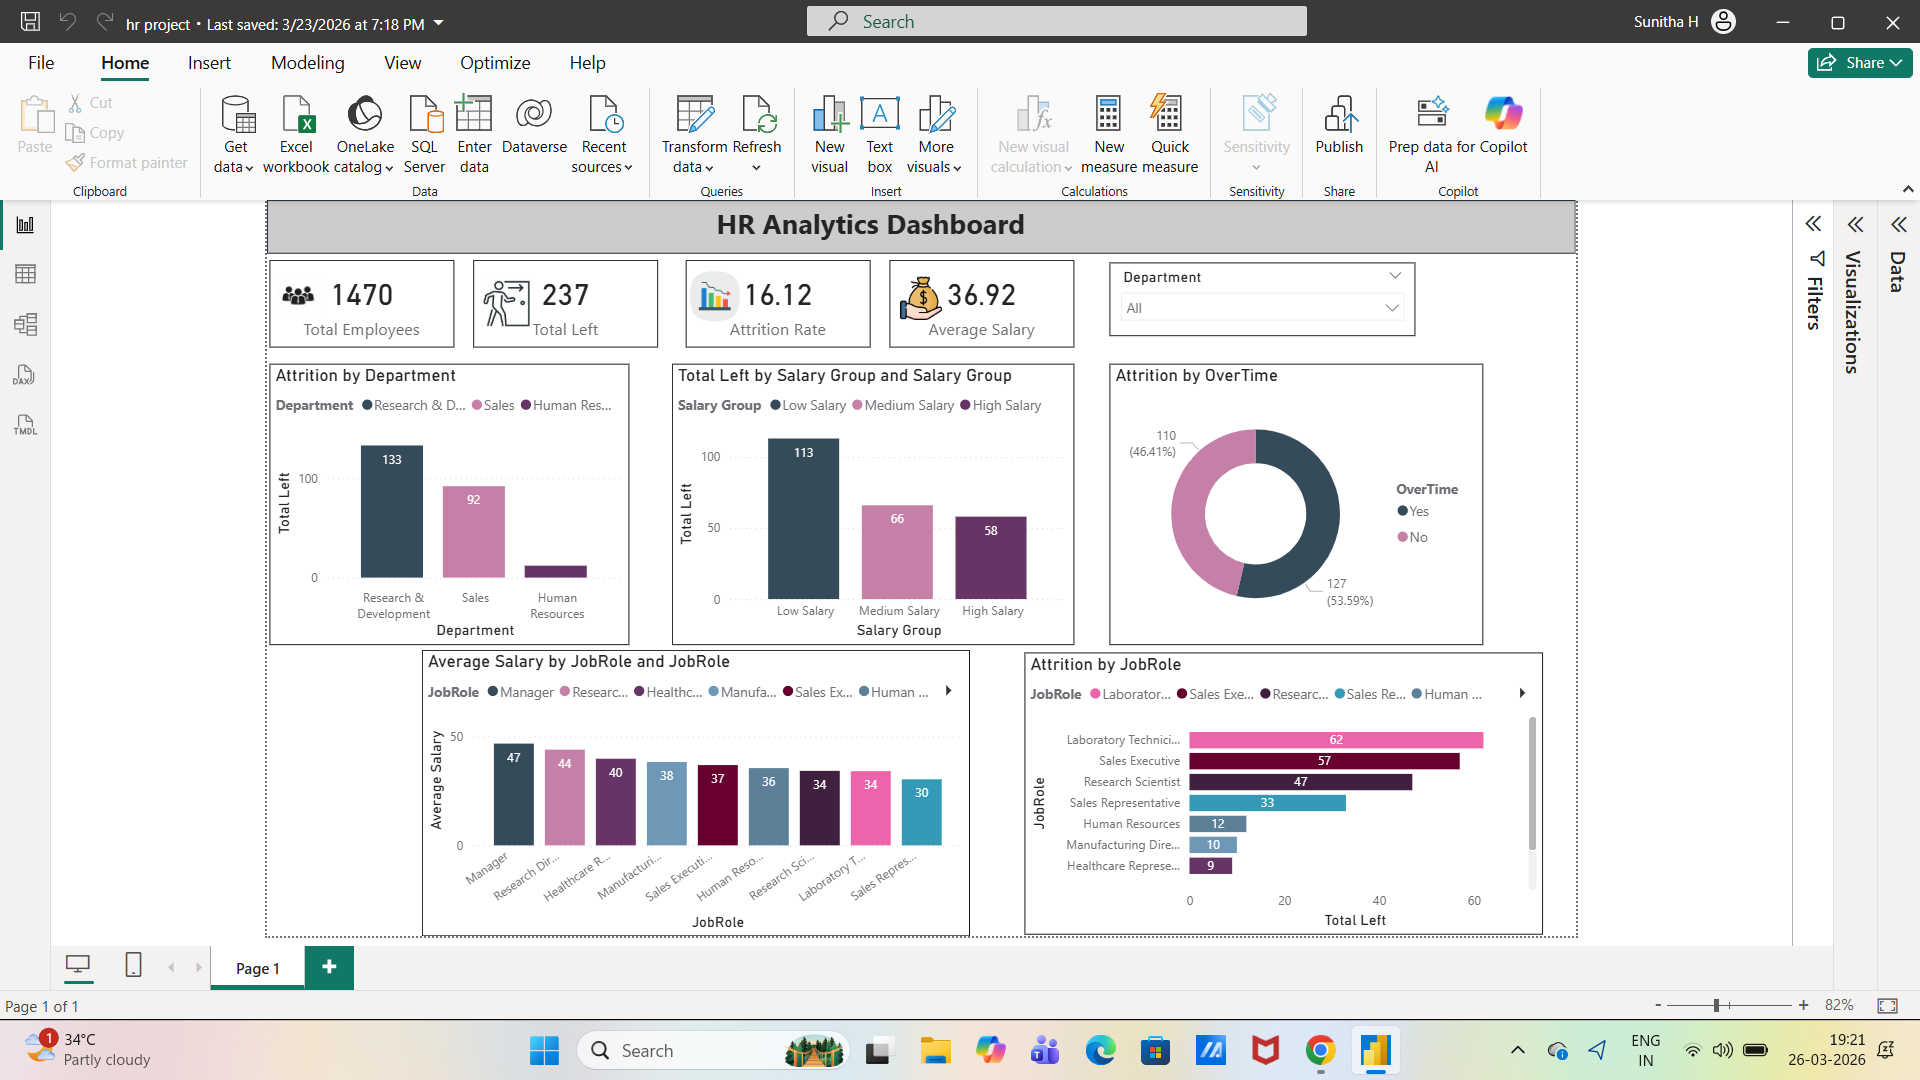

The page's visual inventory and layout, read from the dashboard file:
{"tool":"powerbi","page":{"name":"Page 1","canvas":[1280,720],"ordinal":0},"visuals":[{"type":"card","fields":{"Values":["hr_data.Total Employees"]},"box":[2.4,58.7,181,85.6],"z":0},{"type":"card","fields":{"Values":["hr_data.Total Left"]},"box":[201.8,58.7,181,85.6],"z":1000},{"type":"card","fields":{"Values":["hr_data.Attrition Rate"]},"box":[409.6,58.7,181,85.6],"z":2000},{"type":"card","fields":{"Values":["hr_data.Average Salary"]},"box":[609,58.7,181,85.6],"z":3000},{"type":"columnChart","title":"Attrition by Department","fields":{"Category":["hr_data.Department"],"Y":["hr_data.Total Left"],"Series":["hr_data.Department"]},"box":[2.4,160.2,352.2,275.1],"z":4000},{"type":"barChart","title":"Attrition by JobRole","fields":{"Category":["hr_data.JobRole"],"Y":["hr_data.Total Left"],"Series":["hr_data.JobRole"]},"box":[741,442.7,507.5,276.4],"z":5000},{"type":"donutChart","title":"Attrition by OverTime","fields":{"Y":["hr_data.Total Left"],"Category":["hr_data.OverTime"]},"box":[824.2,160.2,365.6,275.1],"z":6000},{"type":"columnChart","fields":{"Category":["hr_data.JobRole"],"Y":["hr_data.Average Salary"],"Series":["hr_data.JobRole"]},"box":[151.6,440.2,535.6,280],"z":7000},{"type":"columnChart","fields":{"Category":["hr_data.Salary Group1"],"Y":["hr_data.Total Left"],"Series":["hr_data.Salary Group1"]},"box":[396.2,160.2,393.8,275.1],"z":8000},{"type":"shape","box":[0,0,1280.3,52.6],"z":9000},{"type":"textbox","box":[167.5,0,846.2,64.8],"z":10000},{"type":"image","box":[2.4,72.1,56.3,42.8],"z":11000},{"type":"image","box":[210.3,72.1,47.7,58.7],"z":12000},{"type":"image","box":[409.6,69.7,56.3,48.9],"z":13000},{"type":"image","box":[618.8,73.4,42.8,45.2],"z":14000},{"type":"slicer","fields":{"Values":["hr_data.Department"]},"box":[824.2,61.1,299.6,72.1],"z":15001}]}

Visuals, with their boxes on the page's 1280x720 design canvas (x1, y1, x2, y2). These are canvas units, not pixel positions in the 1920x1080 screenshot, which may show the page scaled, cropped or inside an application window:
card - hr_data.Total Employees: <box>2,59,183,144</box>
card - hr_data.Total Left: <box>202,59,383,144</box>
card - hr_data.Attrition Rate: <box>410,59,591,144</box>
card - hr_data.Average Salary: <box>609,59,790,144</box>
"Attrition by Department" columnChart: <box>2,160,355,435</box>
"Attrition by JobRole" barChart: <box>741,443,1248,719</box>
"Attrition by OverTime" donutChart: <box>824,160,1190,435</box>
columnChart - hr_data.JobRole x hr_data.Average Salary: <box>152,440,687,720</box>
columnChart - hr_data.Salary Group1 x hr_data.Total Left: <box>396,160,790,435</box>
shape: <box>0,0,1280,53</box>
textbox: <box>168,0,1014,65</box>
image: <box>2,72,59,115</box>
image: <box>210,72,258,131</box>
image: <box>410,70,466,119</box>
image: <box>619,73,662,119</box>
slicer - hr_data.Department: <box>824,61,1124,133</box>
